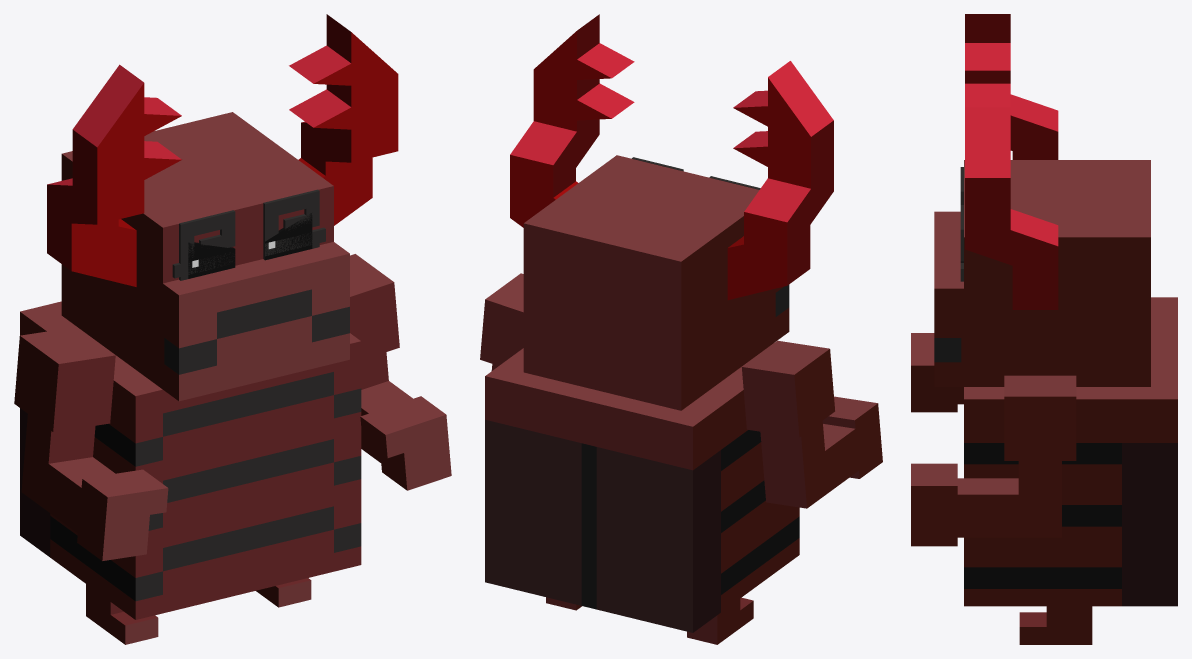
3 views of the same model, side by side, from view 1: azimuth 30°, elevation 25°; view 2: azimuth 150°, elevation 25°; view 3: azimuth 270°, elevation 25° (orthographic). The views are drawn at different scales.
Visible parts, largest first — view 1: Ch_206, Ch_206_Head, Ch_206_Arm_L, Ch_206_Jaw_L, Ch_206_Jaw_R, Ch_206_Arm_R, Ch_206_Eye_01, Ch_206_Leg_L, Ch_206_Eye_03_L, Ch_206_Eye_03_R, Ch_206_WingCover_R, Ch_206_Eye_02 (+1 smaller); view 2: Ch_206_Head, Ch_206, Ch_206_WingCover_R, Ch_206_WingCover_L, Ch_206_Jaw_L, Ch_206_Arm_L, Ch_206_Jaw_R, Ch_206_Arm_R, Ch_206_Leg_L; view 3: Ch_206_Head, Ch_206, Ch_206_Arm_R, Ch_206_Jaw_R, Ch_206_WingCover_L, Ch_206_Jaw_L, Ch_206_Leg_R, Ch_206_Arm_L.
Part boxes in pixels (x1=…): Ch_206: x1=20, y1=301, x2=361, y2=619; Ch_206_Head: x1=61, y1=112, x2=349, y2=401; Ch_206_Arm_L: x1=14, y1=327, x2=168, y2=560; Ch_206_Jaw_L: x1=47, y1=64, x2=181, y2=286; Ch_206_Jaw_R: x1=289, y1=14, x2=398, y2=225; Ch_206_Arm_R: x1=350, y1=254, x2=451, y2=490; Ch_206_Eye_01: x1=188, y1=213, x2=312, y2=278; Ch_206_Leg_L: x1=86, y1=584, x2=158, y2=644; Ch_206_Eye_03_L: x1=179, y1=210, x2=235, y2=280; Ch_206_Eye_03_R: x1=263, y1=189, x2=319, y2=259; Ch_206_WingCover_R: x1=20, y1=408, x2=50, y2=557; Ch_206_Eye_02: x1=172, y1=227, x2=325, y2=278; Ch_206_Head: x1=523, y1=155, x2=789, y2=410; Ch_206: x1=485, y1=343, x2=799, y2=612; Ch_206_WingCover_R: x1=589, y1=445, x2=720, y2=632; Ch_206_WingCover_L: x1=485, y1=419, x2=588, y2=607; Ch_206_Jaw_L: x1=727, y1=61, x2=833, y2=300; Ch_206_Arm_L: x1=741, y1=340, x2=882, y2=508; Ch_206_Jaw_R: x1=510, y1=14, x2=634, y2=227; Ch_206_Arm_R: x1=480, y1=273, x2=523, y2=370; Ch_206_Leg_L: x1=687, y1=597, x2=753, y2=644; Ch_206_Head: x1=934, y1=160, x2=1150, y2=386; Ch_206: x1=964, y1=297, x2=1177, y2=606; Ch_206_Arm_R: x1=911, y1=375, x2=1076, y2=546; Ch_206_Jaw_R: x1=965, y1=107, x2=1058, y2=309; Ch_206_WingCover_L: x1=1122, y1=443, x2=1177, y2=606; Ch_206_Jaw_L: x1=965, y1=14, x2=1058, y2=159; Ch_206_Leg_R: x1=1019, y1=606, x2=1092, y2=644; Ch_206_Arm_L: x1=911, y1=333, x2=963, y2=412.
Bounding box in the file's own units: 8.36 × 13.41 × 5.98.
